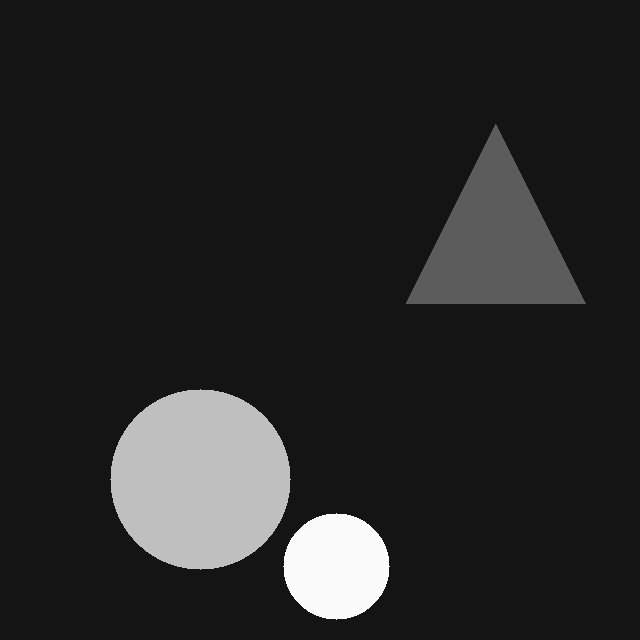circle: (110, 389, 290, 569), (283, 513, 389, 619)
triangle: (406, 124, 585, 303)
